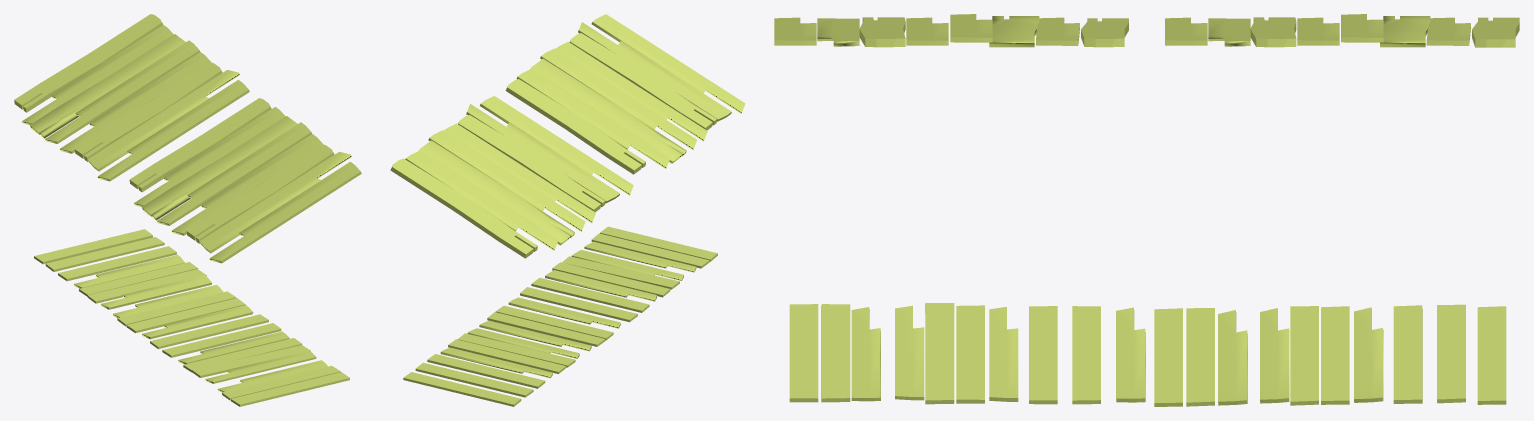
File: Beam_Structure_24B_Lod0.fbx
The picture shows the model from 3 angles, left to right: view 1: azimuth 30°, elevation 25°; view 2: azimuth 150°, elevation 25°; view 3: azimuth 270°, elevation 25°; orthographic projection. The views are drawn at different scales.
Visible parts, largest first — view 1: Beam_Structure_24B_Lod0; view 2: Beam_Structure_24B_Lod0; view 3: Beam_Structure_24B_Lod0.
Boxes of the visible parts, bbox=[...] form: Beam_Structure_24B_Lod0: bbox=[14, 14, 361, 406]; Beam_Structure_24B_Lod0: bbox=[390, 14, 745, 406]; Beam_Structure_24B_Lod0: bbox=[774, 14, 1519, 406].
Bounding box in the file's own units: 221 × 297 × 529.
